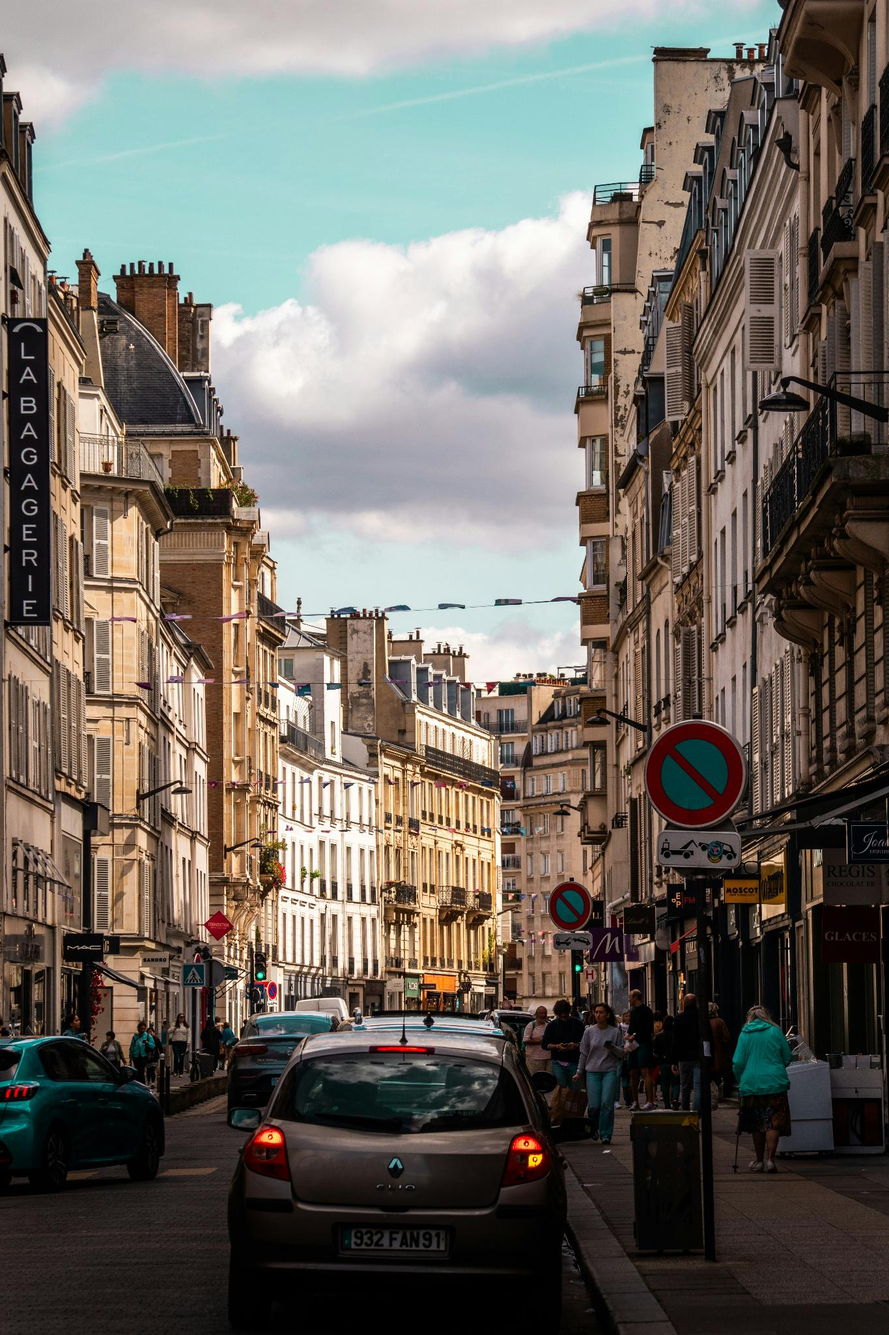car: (229, 1020, 573, 1335), (0, 1039, 164, 1199), (225, 1026, 321, 1131)
pedestrian: (736, 1003, 794, 1177), (581, 1002, 624, 1146), (543, 998, 583, 1102), (674, 990, 704, 1111), (629, 992, 656, 1109), (711, 1002, 735, 1107), (130, 1018, 158, 1088), (654, 1013, 674, 1108), (524, 1008, 550, 1075), (173, 1014, 191, 1082), (201, 1017, 221, 1074), (101, 1031, 122, 1069)
